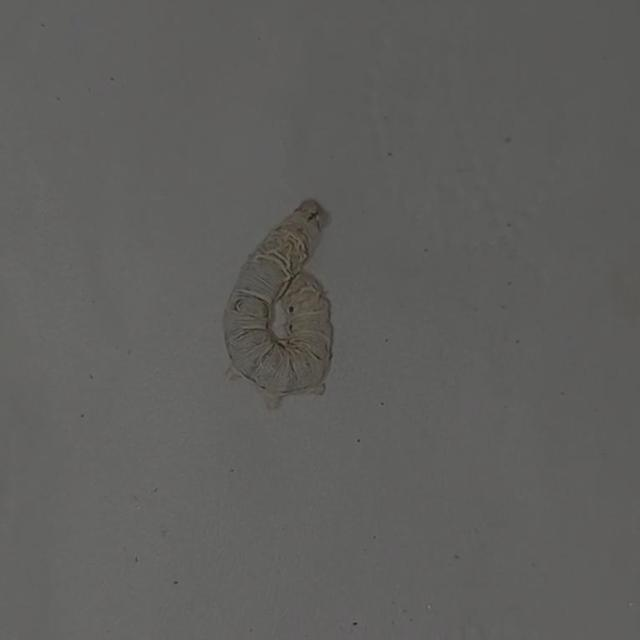Healthy: (214, 186, 356, 413)
